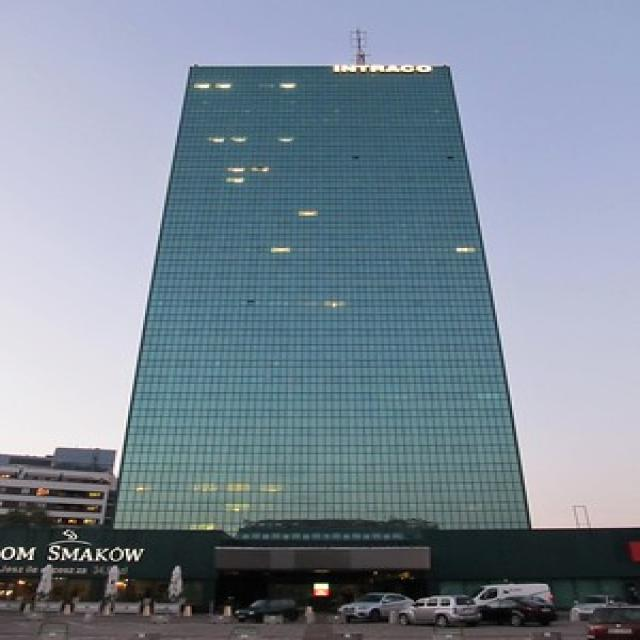building: (104, 60, 534, 561)
